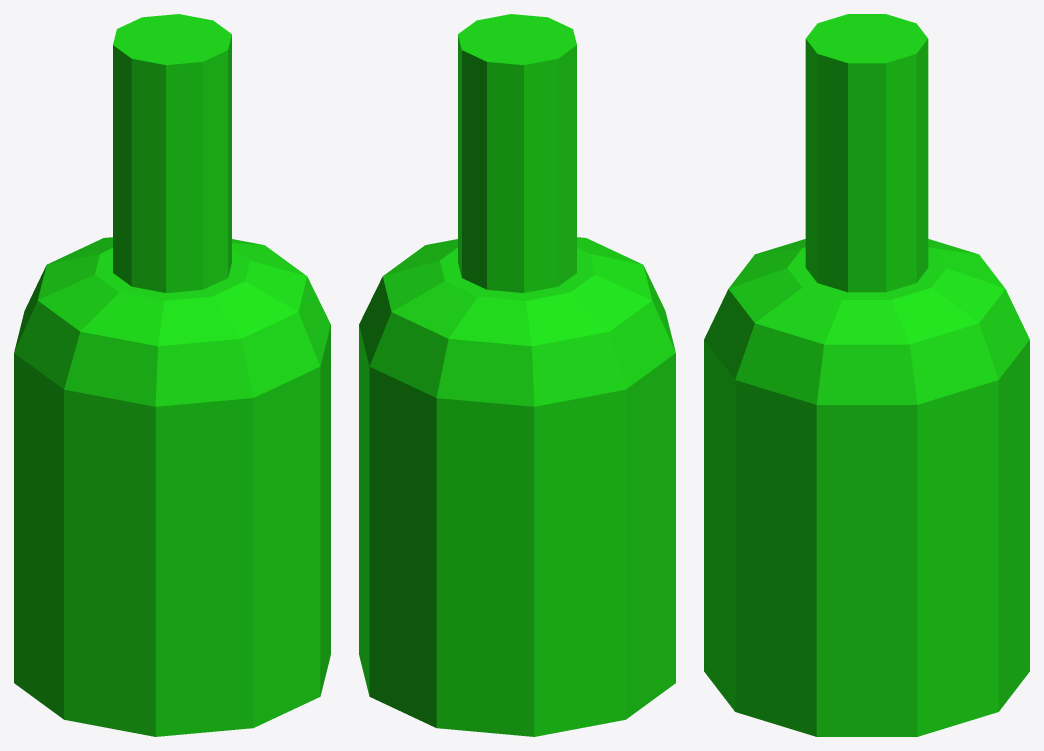
The model's file is Green_bottle.glb.
The picture shows the model from 3 angles, left to right: view 1: azimuth 30°, elevation 25°; view 2: azimuth 150°, elevation 25°; view 3: azimuth 270°, elevation 25°; orthographic projection.
Visible parts, largest first — view 1: Cylinder; view 2: Cylinder; view 3: Cylinder.
Boxes of the visible parts, left/top/right/bottom form: Cylinder: left=14, top=14, right=330, bottom=736; Cylinder: left=359, top=14, right=675, bottom=736; Cylinder: left=704, top=14, right=1029, bottom=736.
Bounding box in the file's own units: 1.9 × 4.29 × 2.
